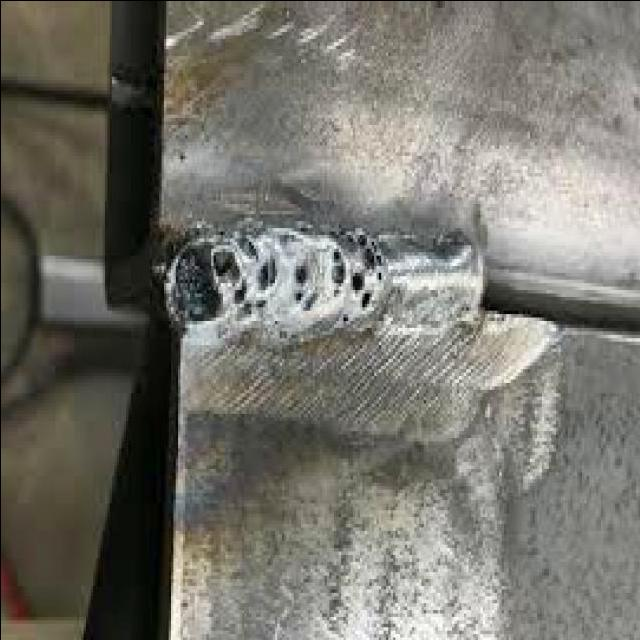defect: (159, 221, 282, 330), (323, 223, 394, 315), (289, 255, 317, 317)
